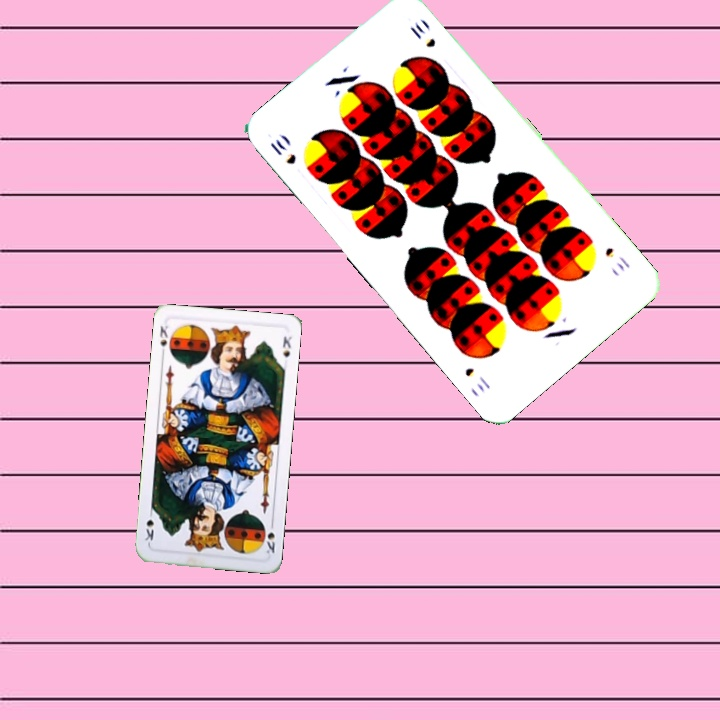S10: (265, 135, 299, 167), (601, 243, 633, 274)
SK: (261, 517, 277, 557), (156, 321, 171, 359)
